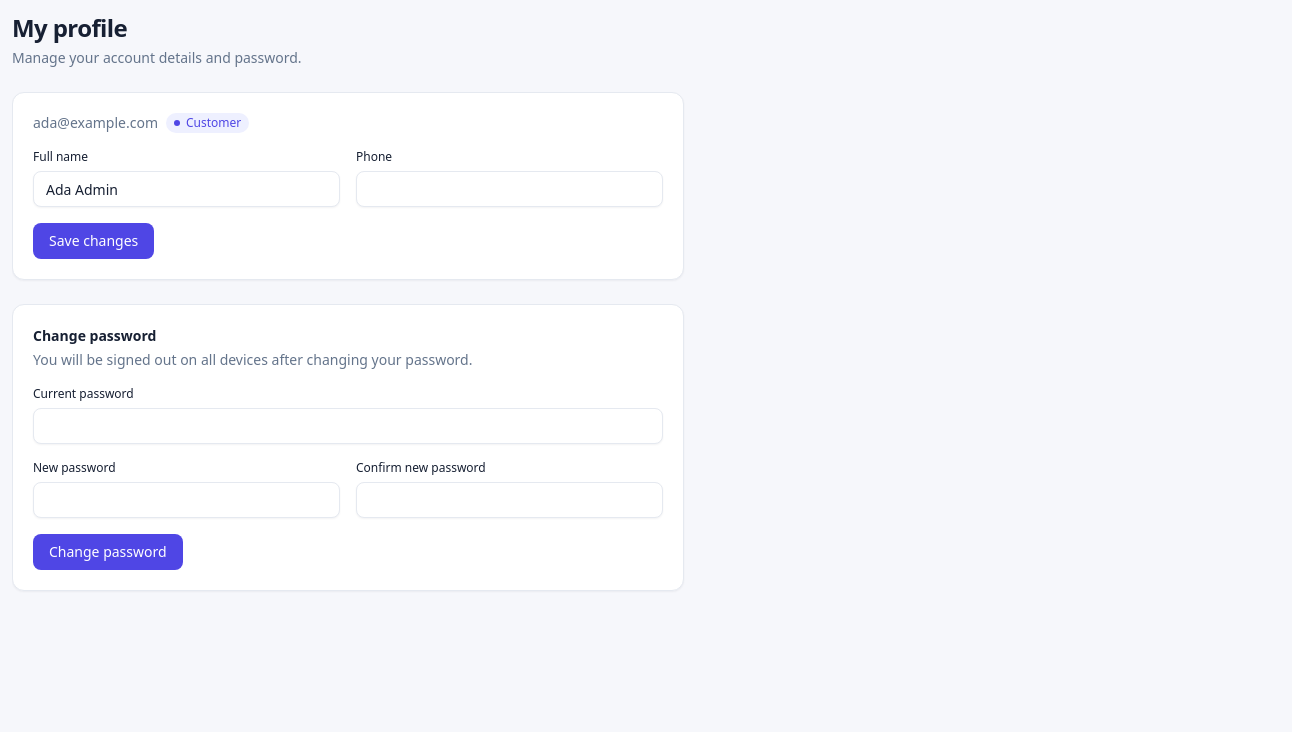
ProfilePage › changes the password, then signs the user out and sends them to login
This screenshot has width=1292, height=732.
Type "old-pass1" into the password field labelled "Current password" at (348, 426), box top-left (33, 408), bottom-right (663, 444)
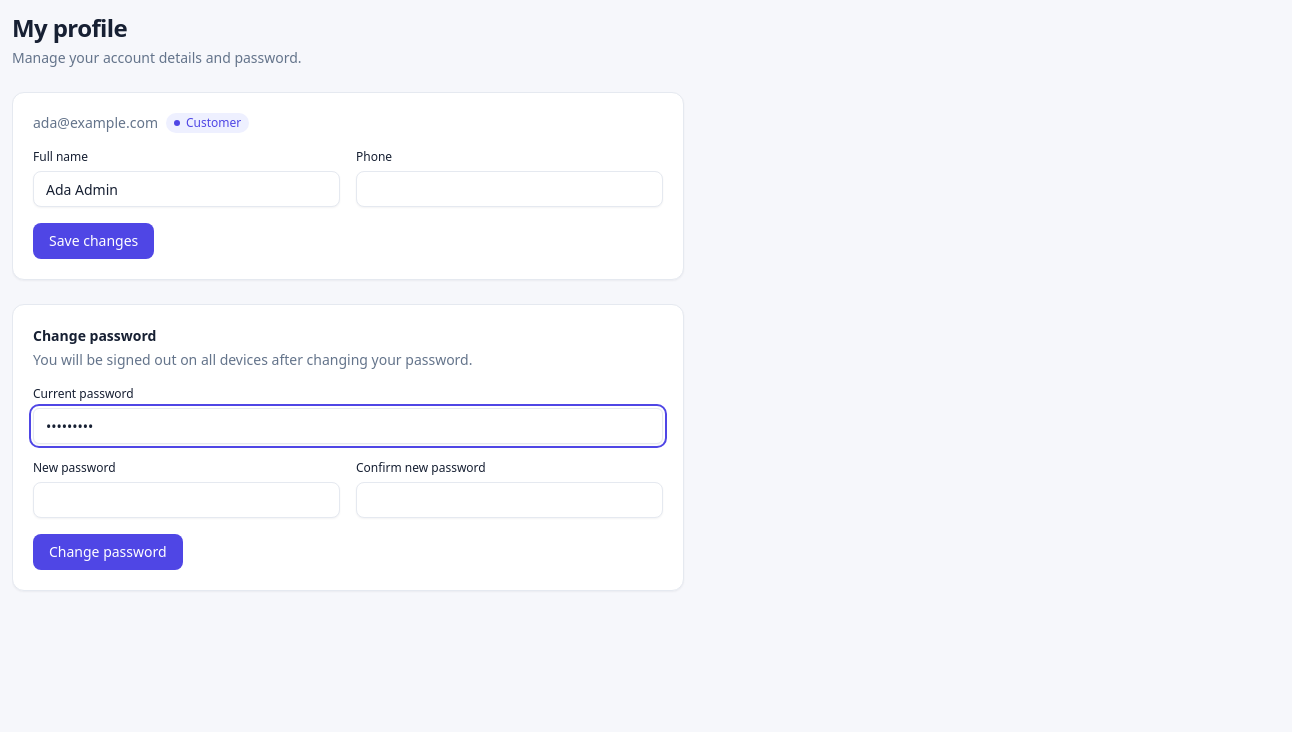
Type "Passw0rdOK" into the password field labelled "New password" at (186, 500), box top-left (33, 482), bottom-right (340, 518)
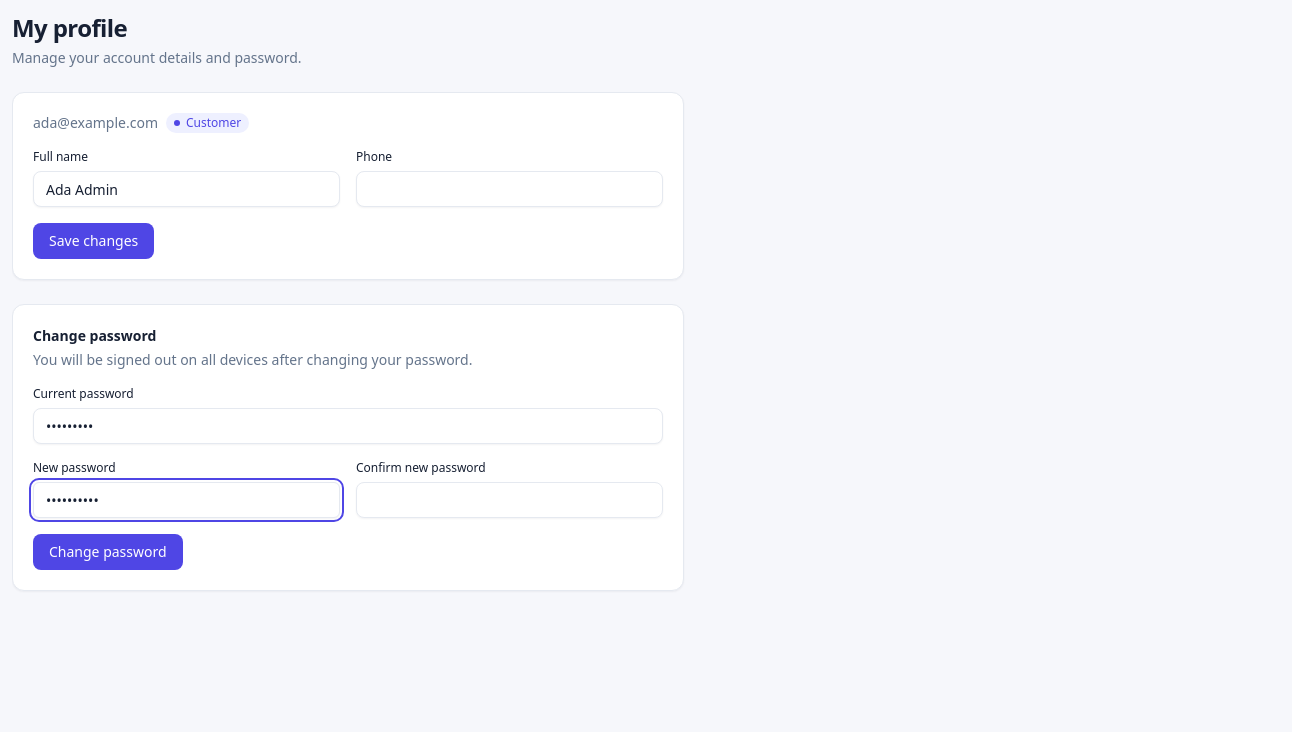
Type "Passw0rdOK" into the password field labelled "Confirm new password" at (510, 500), box top-left (356, 482), bottom-right (663, 518)
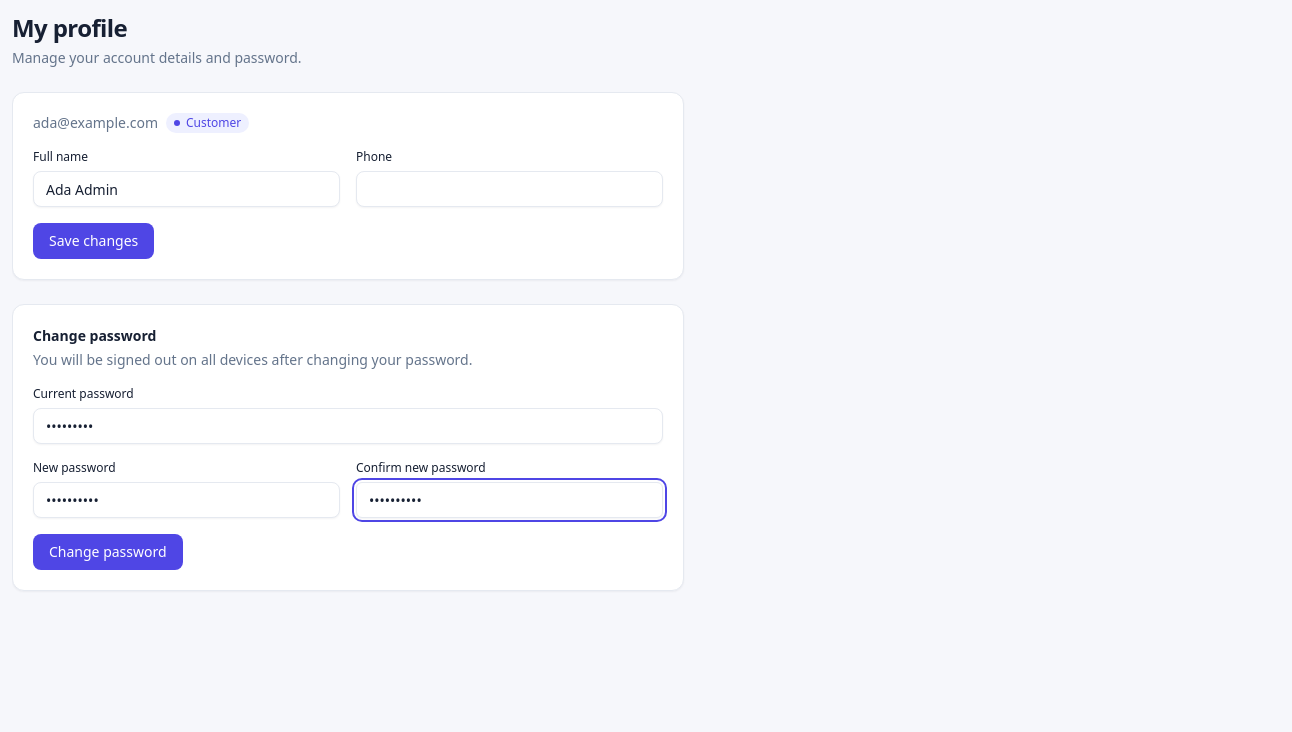
Click the button "Change password" at (108, 552), box top-left (33, 534), bottom-right (183, 570)
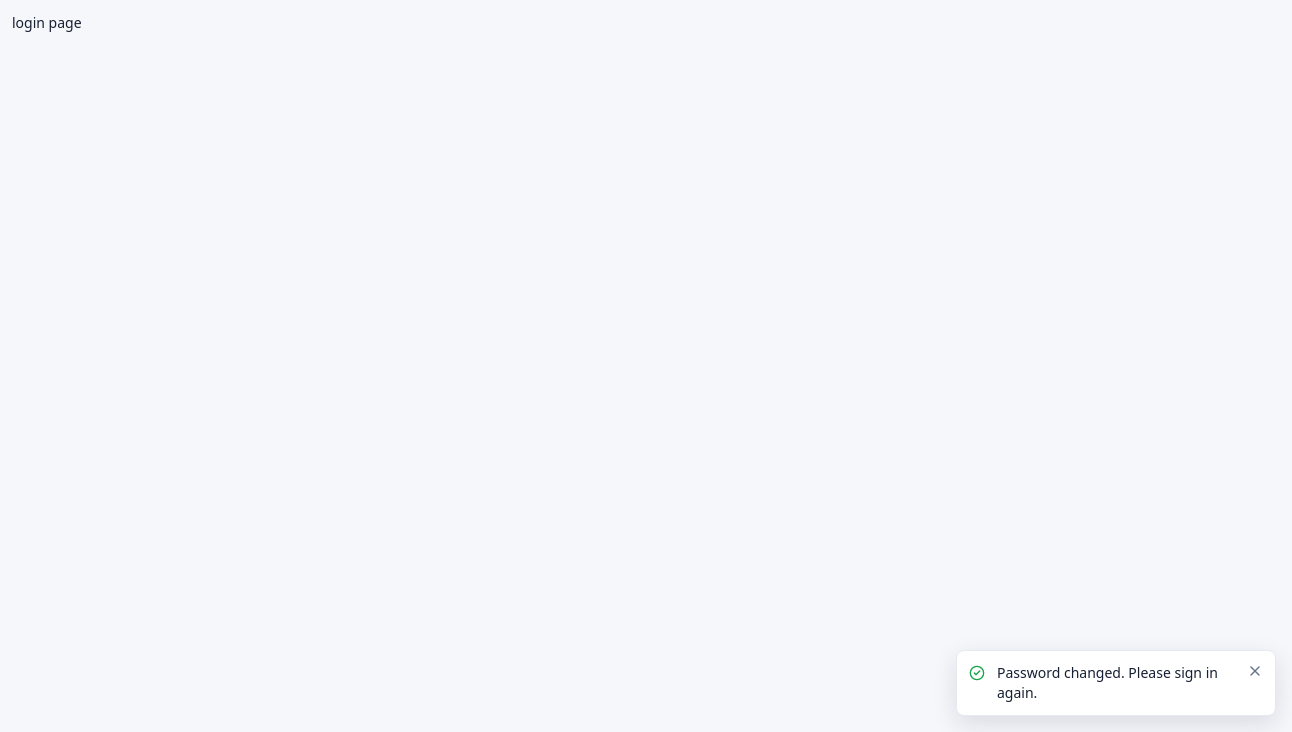
Result: the text "login page" is shown at top-left (12, 13), bottom-right (82, 32)
